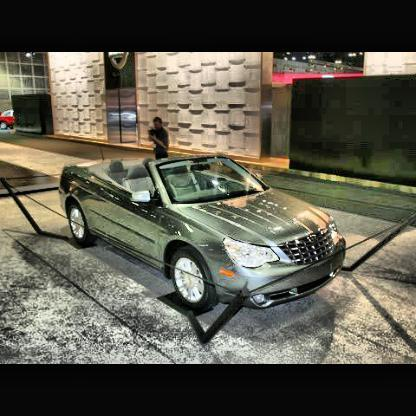Chrysler Sebring Convertible 2010: (62, 155, 348, 311)
